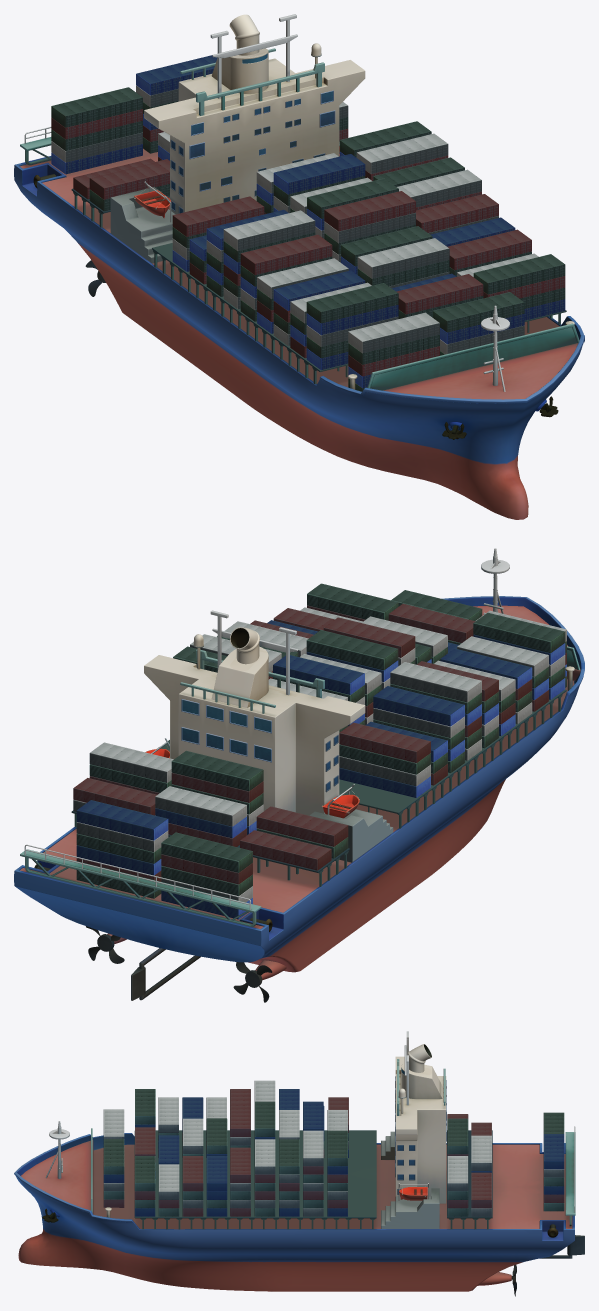
3 views of the same model, one above another, from view 1: azimuth 30°, elevation 25°; view 2: azimuth 150°, elevation 25°; view 3: azimuth 270°, elevation 25° (orthographic). The views are drawn at different scales.
Parts seen in each view (by area): view 1: ocean_freighter.1; view 2: ocean_freighter.1; view 3: ocean_freighter.1.
Part boxes in pixels (left/top/right/bottom): ocean_freighter.1: left=14, top=14, right=584, bottom=519; ocean_freighter.1: left=14, top=548, right=584, bottom=1002; ocean_freighter.1: left=14, top=1031, right=584, bottom=1296.
Bounding box in the file's own units: 24.73 × 29.05 × 67.8.
Materials: 1 (1 with a texture image).
